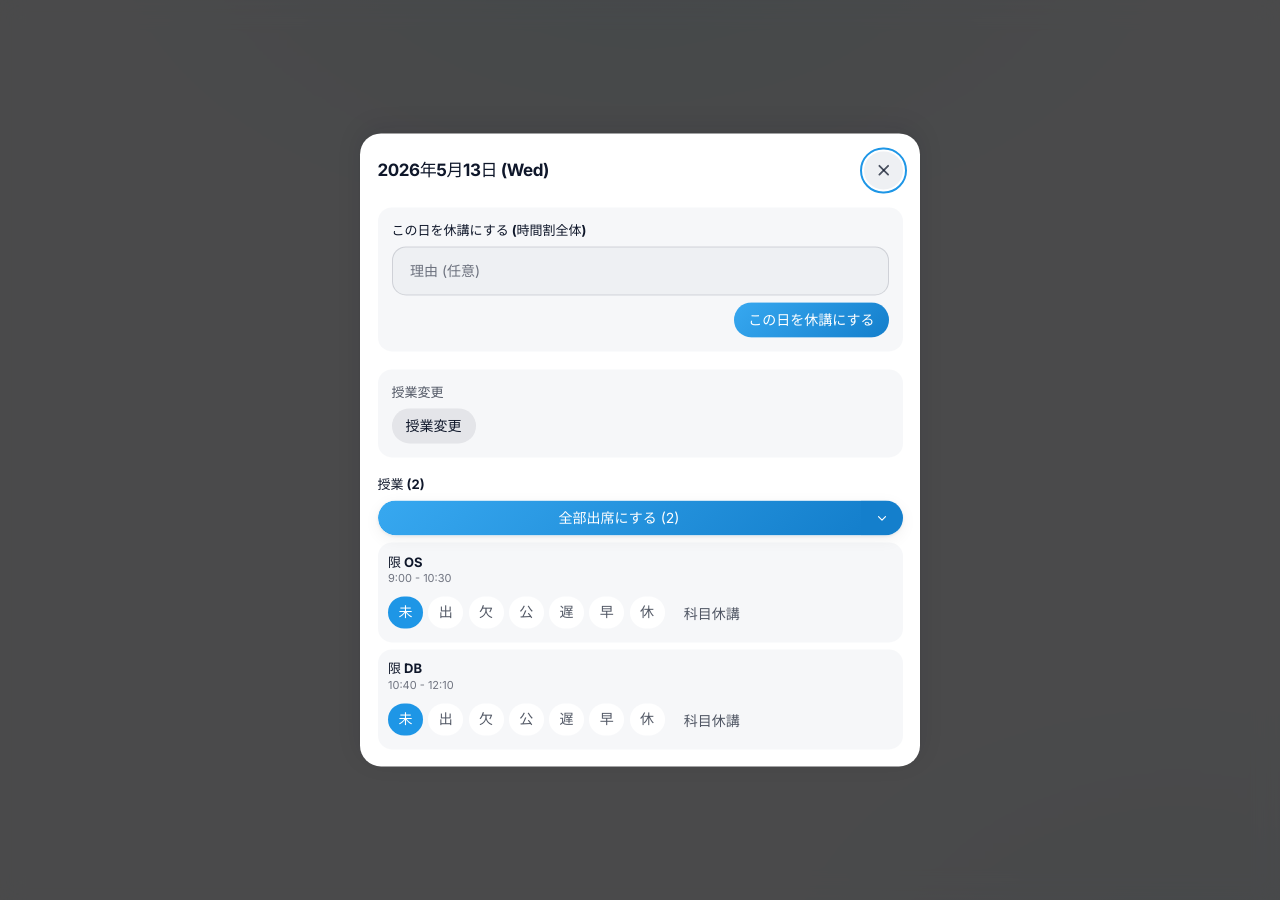
Test: DayDetailSheet review contract › shows explanatory text when the bulk menu is open
This screenshot has width=1280, height=900.
Click the button named "一括記録のステータスを選ぶ" at (882, 518), box top-left (860, 501), bottom-right (902, 536)
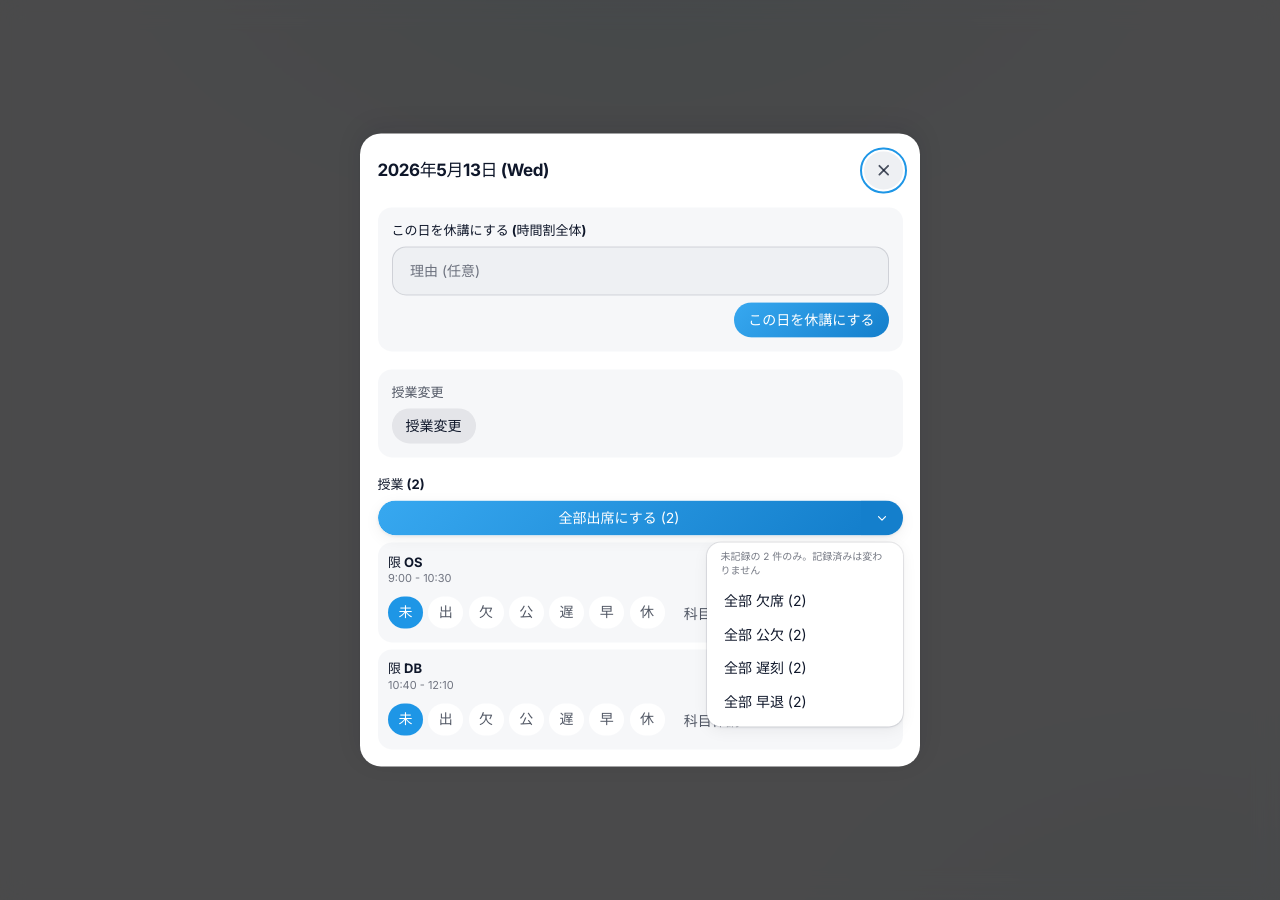
Result: the text "未記録の 2 件のみ。記録済みは変わりません" is shown at top-left (714, 550), bottom-right (896, 585)
